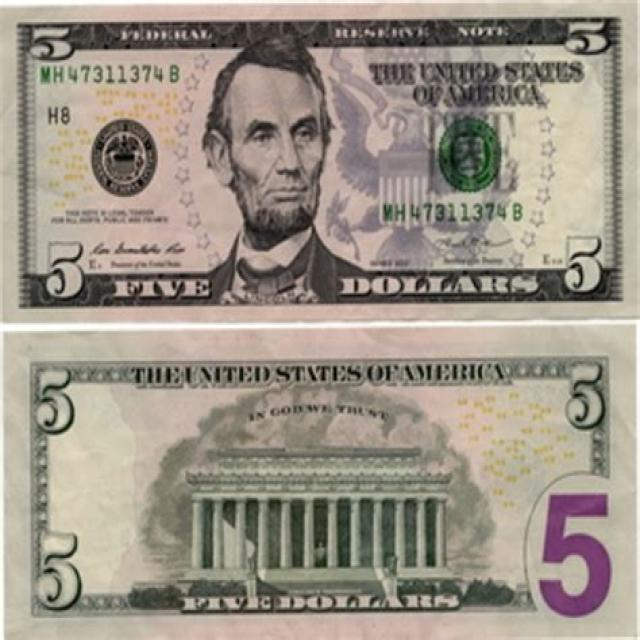Five: (0, 1, 640, 322), (2, 329, 640, 639)
